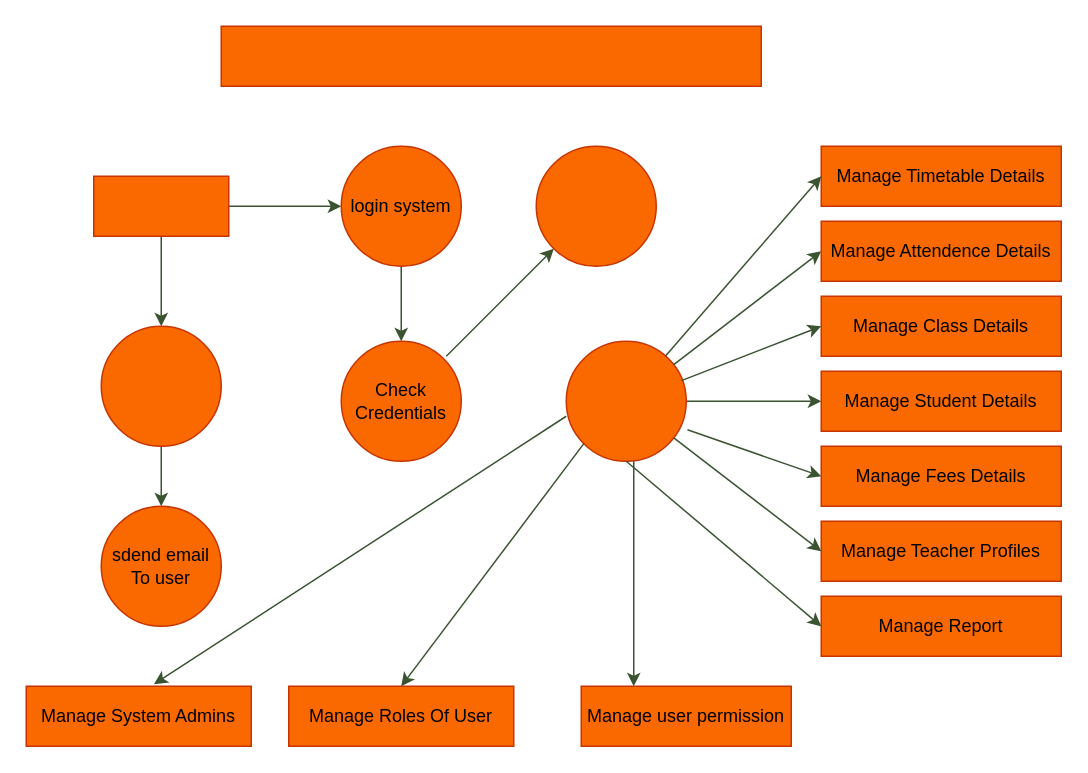
The diagram is 1088 pixels wide and 773 high, and some of its shapes have lost their labels. Here are the shapes that lost their labels. From the top down, the box of each, then its label:
(220, 25, 761, 86): Student Information System
(92, 175, 229, 236): Admin
(535, 145, 656, 266): check Roles Of Access
(100, 325, 221, 446): Forget password
(565, 340, 686, 461): Manage Modules
